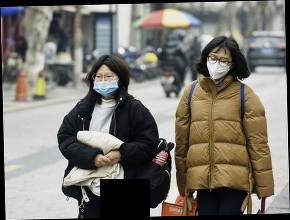with_mask: (92, 71, 120, 100), (206, 52, 233, 80)
